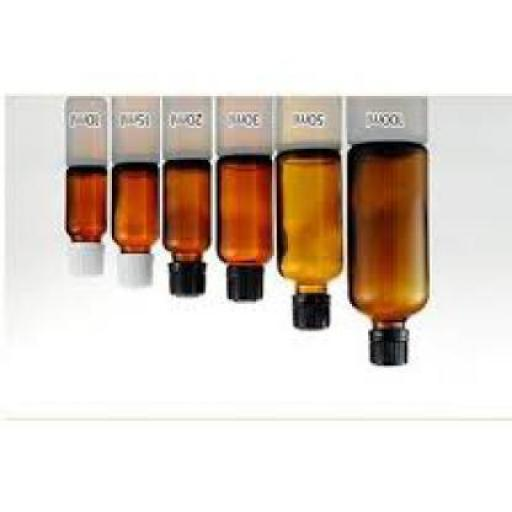glass: (350, 142, 432, 334), (279, 147, 345, 294), (217, 155, 279, 270), (164, 160, 215, 266), (114, 160, 165, 254), (68, 164, 110, 244)
plastic: (228, 267, 268, 304), (372, 331, 412, 368), (171, 265, 208, 302), (70, 244, 108, 279), (294, 299, 332, 334), (121, 256, 156, 290)
